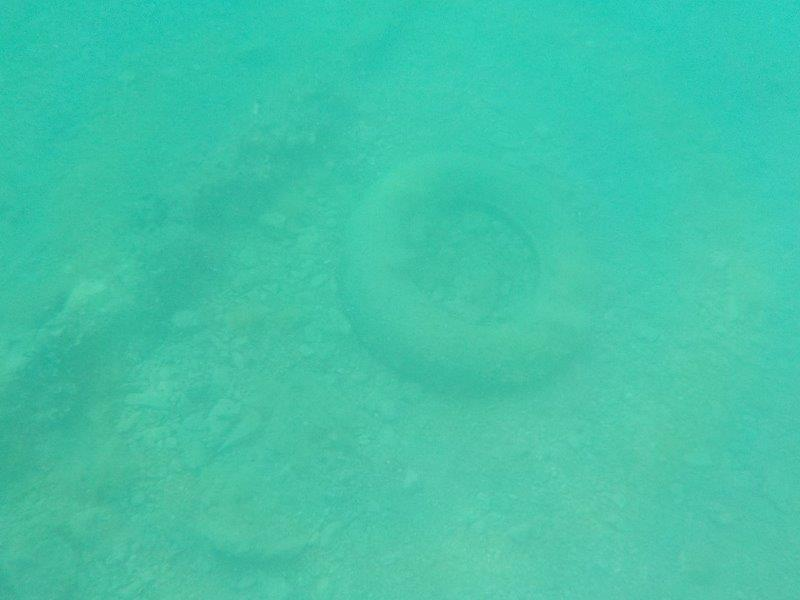tire: (330, 141, 604, 398)
